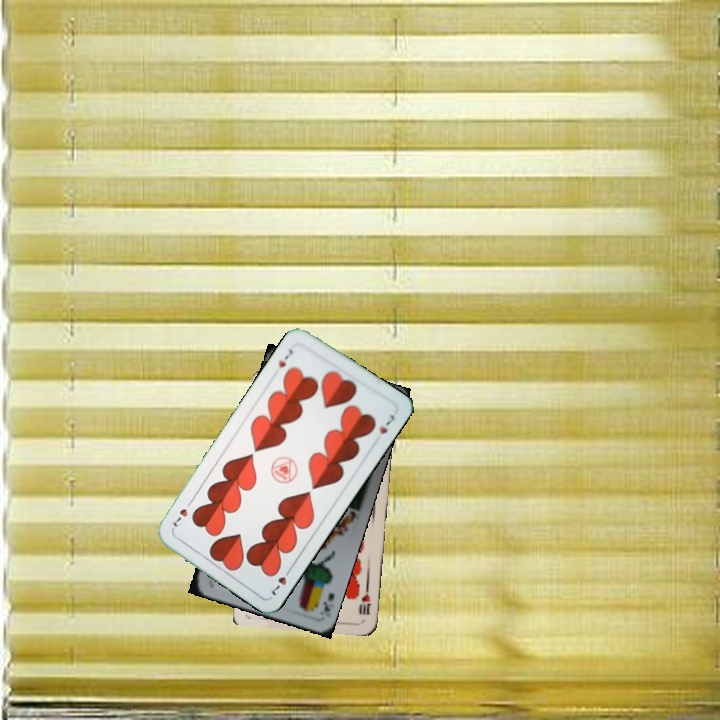EK: (316, 589, 337, 620)
H10: (355, 581, 374, 618)
H7: (267, 563, 294, 598), (274, 345, 296, 370)
